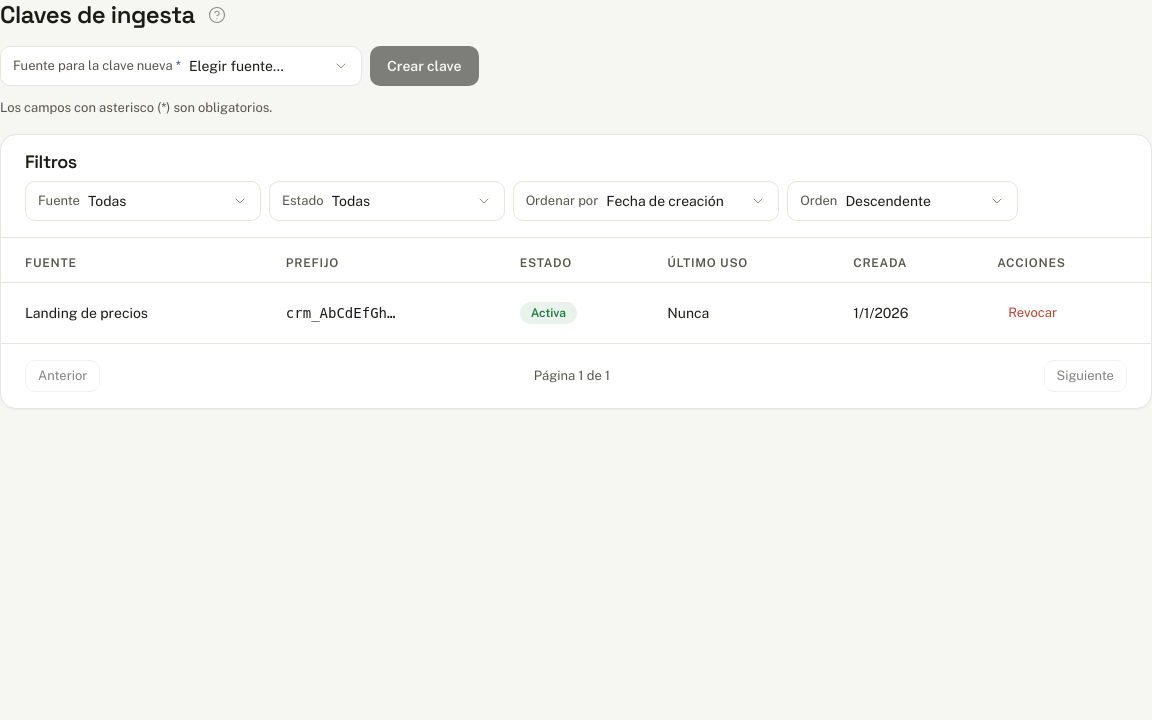
Test: ApiKeyListPage — creación y el secreto › crear abre el modal con la clave y el NOMBRE de la fuente, y al cerrarlo DESAPARECE del DOM
Expected: the table is shown, [1, 238, 1151, 343]
Click the dropdown labelled "Fuente para la clave nueva". click: (269, 66)
box: [189, 58, 349, 74]
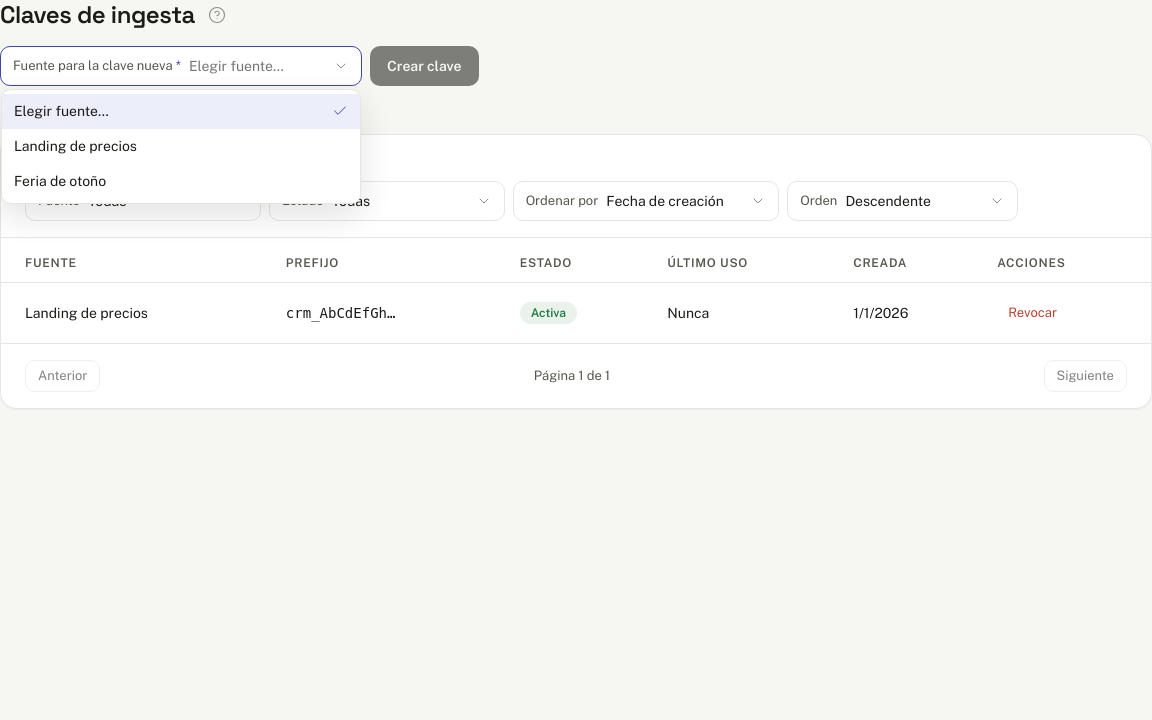
Click the option "Feria de otoño". click: (60, 181)
box: [14, 173, 106, 189]
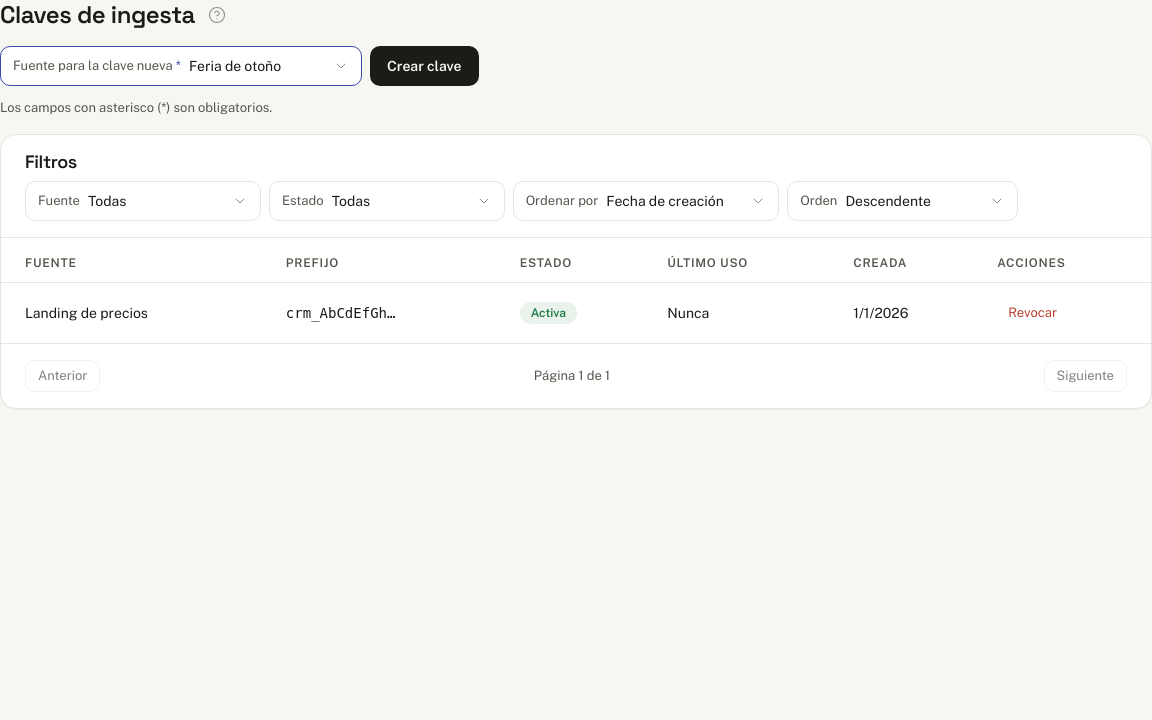
Click the button "Crear clave". click: (424, 66)
box: [370, 46, 478, 86]
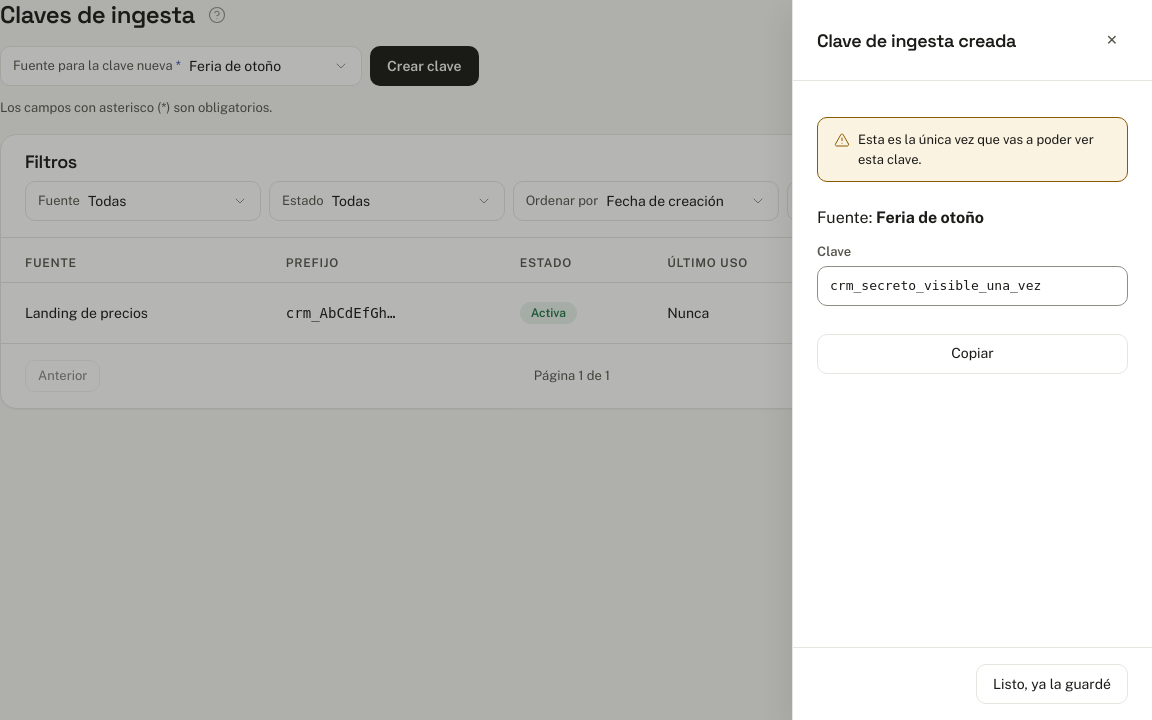
Now the field labelled "Clave" holds "crm_secreto_visible_una_vez", box [817, 266, 1128, 306]
Now the text "Feria de otoño" is shown, box [876, 208, 984, 227]
Click the button "Listo, ya la guardé". click: (1052, 684)
box: [976, 664, 1128, 704]
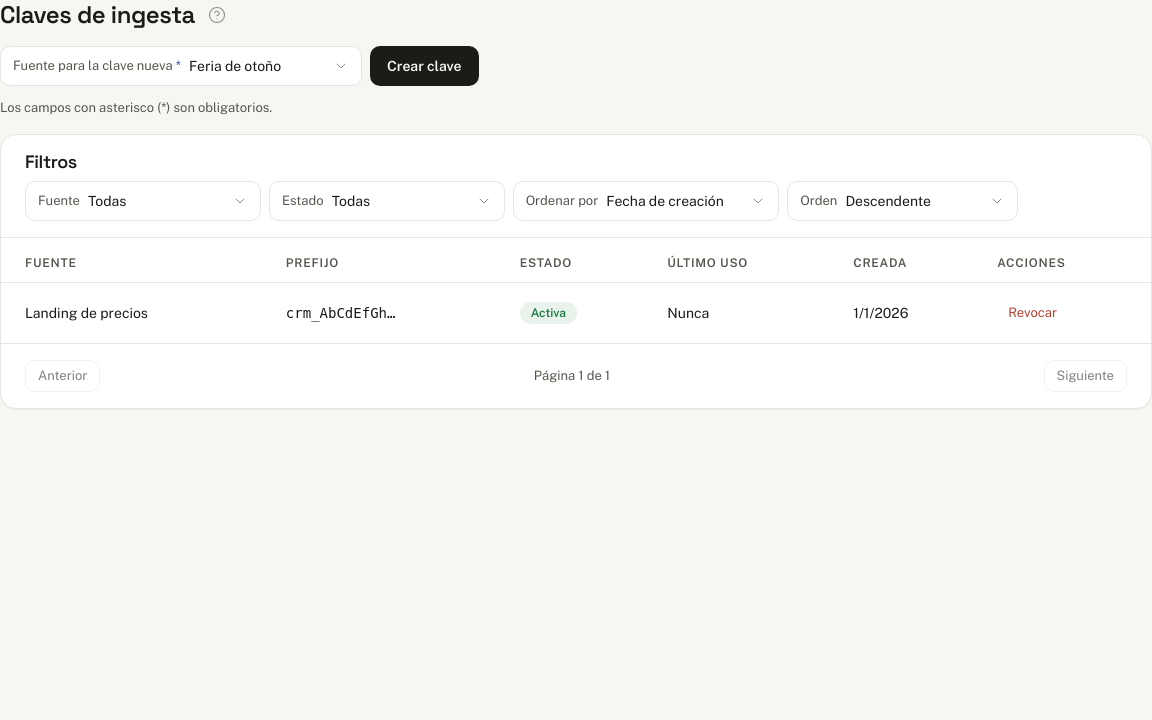
Expected: the field showing "crm_secreto_visible_una_vez" is not shown
Now the dialog is gone
